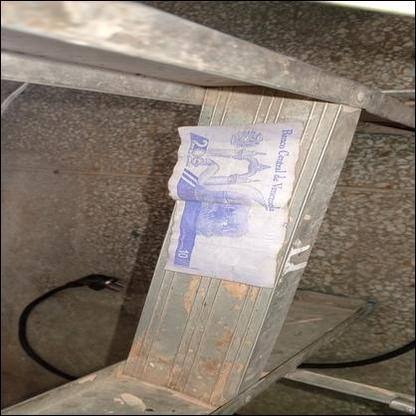ten-back-vef: (161, 126, 300, 288)
